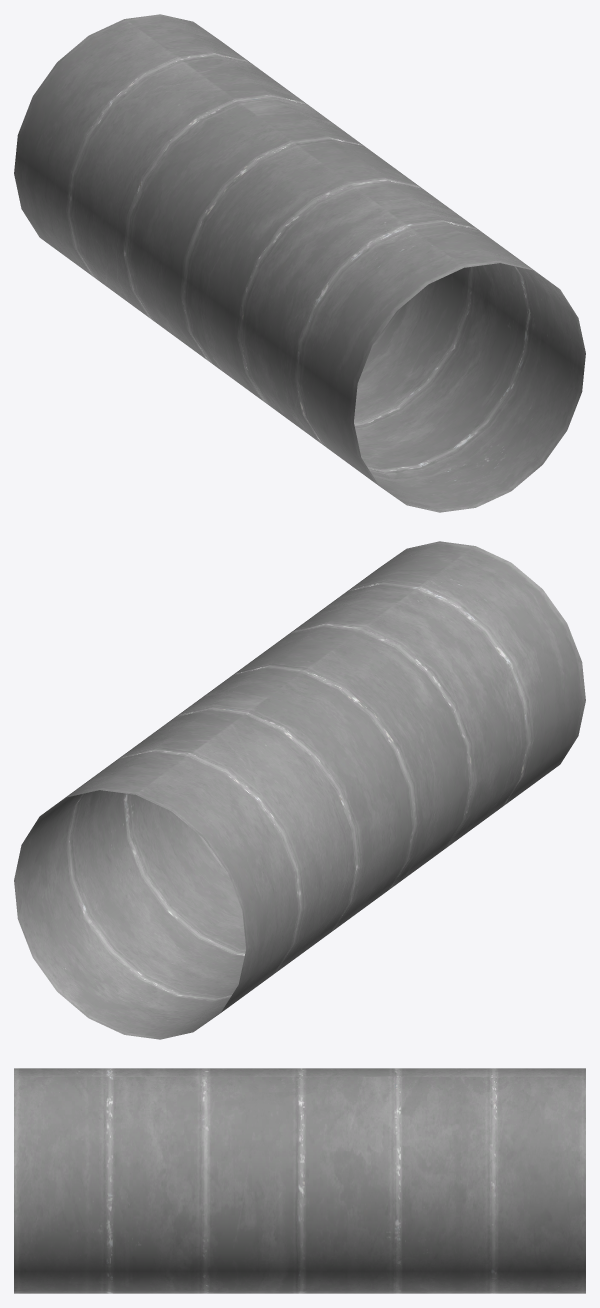
File: SM_Air_Vent_01f.glb
3 views of the same model, one above another, from view 1: azimuth 30°, elevation 25°; view 2: azimuth 150°, elevation 25°; view 3: azimuth 270°, elevation 25° (orthographic). The views are drawn at different scales.
Visible parts, largest first — view 1: SM_Air_Vent_01f; view 2: SM_Air_Vent_01f; view 3: SM_Air_Vent_01f.
Part boxes in pixels (left/top/right/bottom): SM_Air_Vent_01f: left=14, top=14, right=585, bottom=512; SM_Air_Vent_01f: left=14, top=541, right=585, bottom=1039; SM_Air_Vent_01f: left=14, top=1068, right=585, bottom=1293.
Bounding box in the file's own units: 0.5916 × 0.5916 × 1.5.
Materials: 1 (1 with a texture image).
